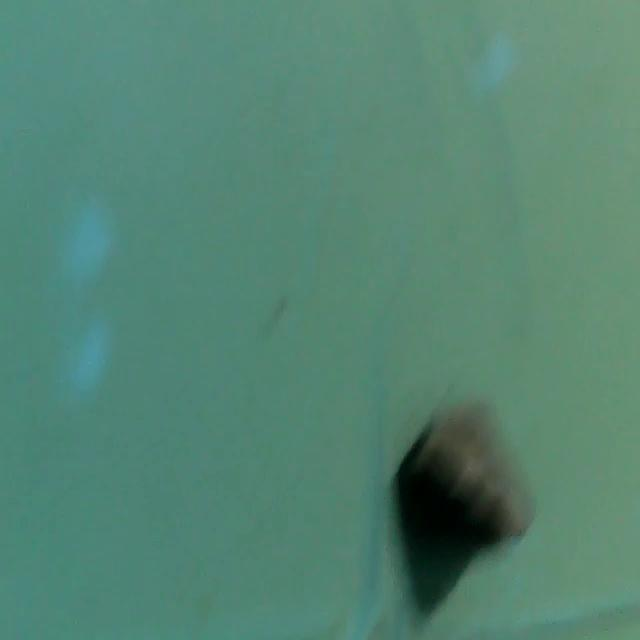rock: (392, 406, 541, 574)
